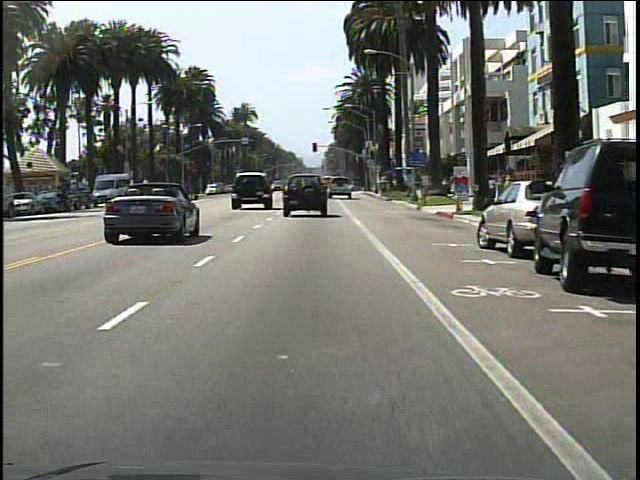person: (58, 178, 74, 215)
